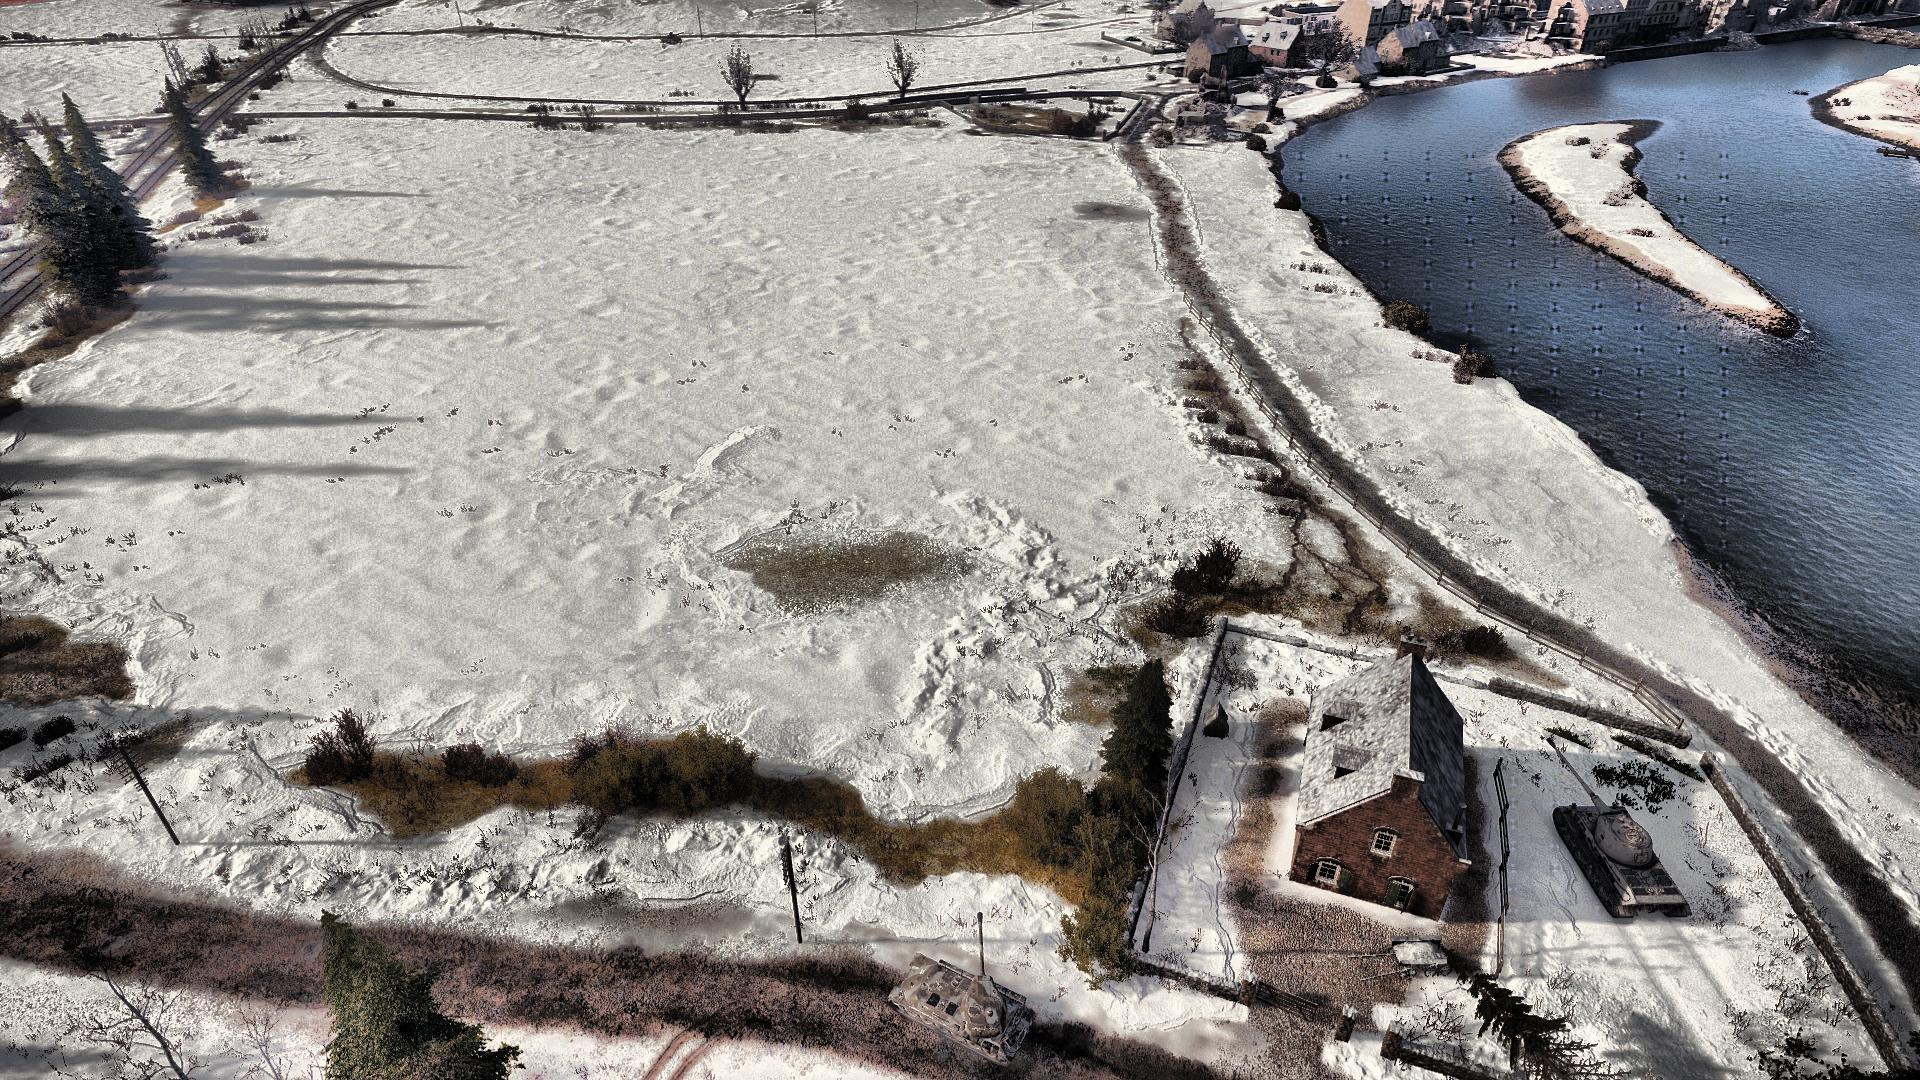military-vehicle: (1549, 744, 1692, 923), (889, 911, 1035, 1062)
